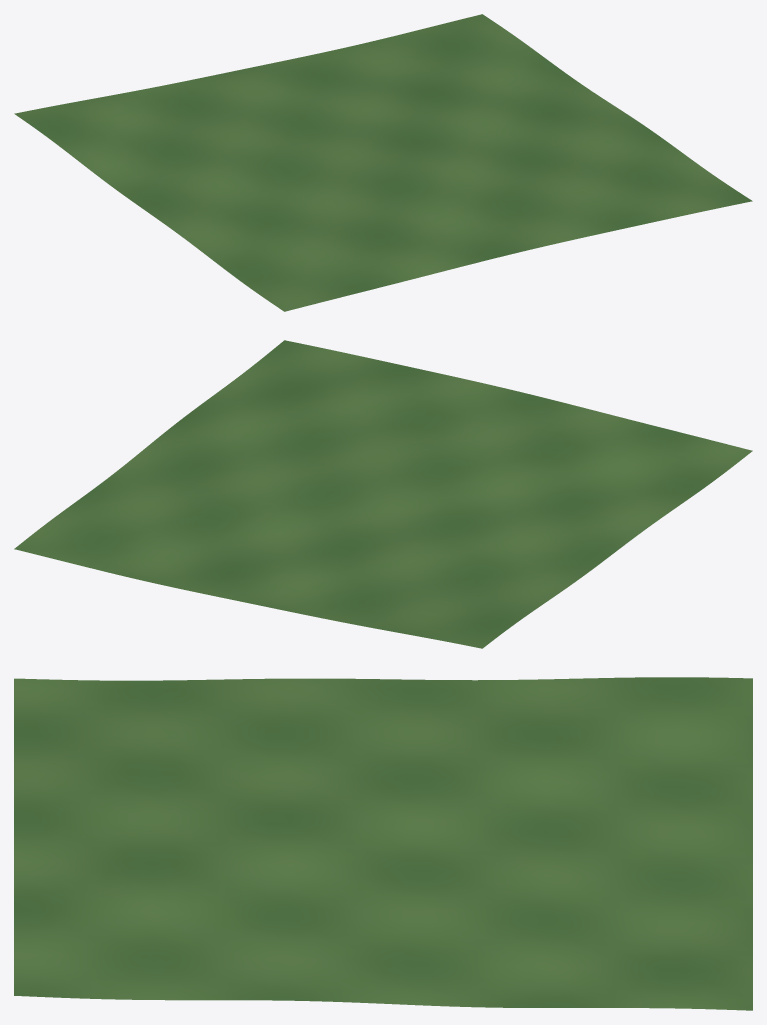
Rendered from chunk_2_7.glb.
3 views of the same model, one above another, from view 1: azimuth 30°, elevation 25°; view 2: azimuth 150°, elevation 25°; view 3: azimuth 270°, elevation 25° (orthographic). The views are drawn at different scales.
Bounding box in the file's own units: 512 × 18.06 × 512.
